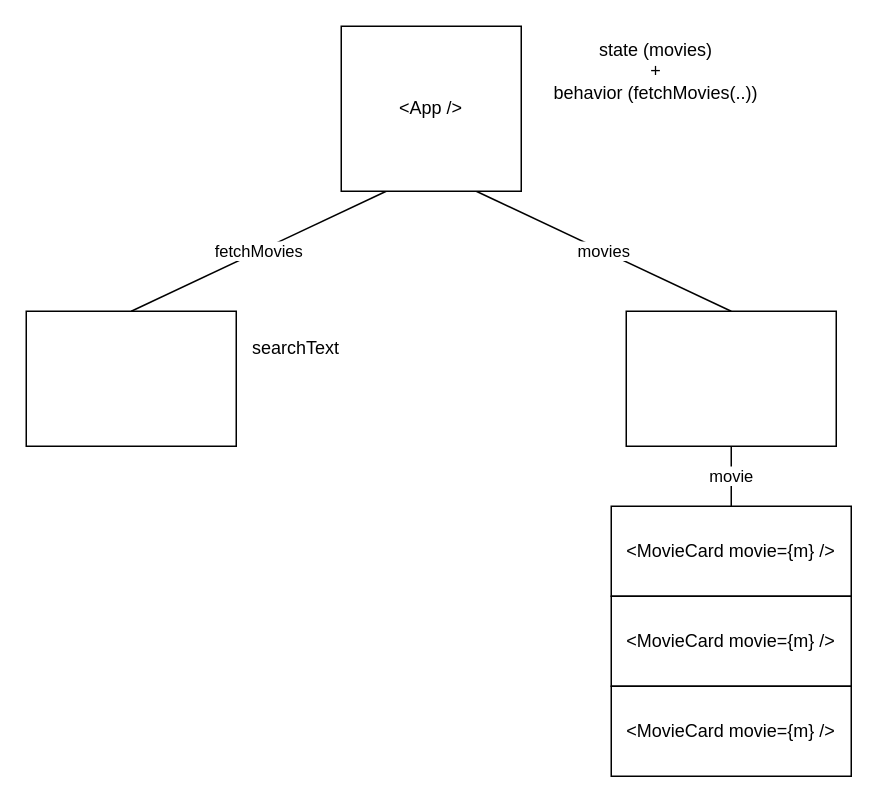
This 878x803 diagram has some shape labels left out. Here are the shapes that lost their labels. From the top down, the box of each, then its label:
(25, 310, 236, 446): <Header />
(625, 310, 836, 446): <MovieList />
